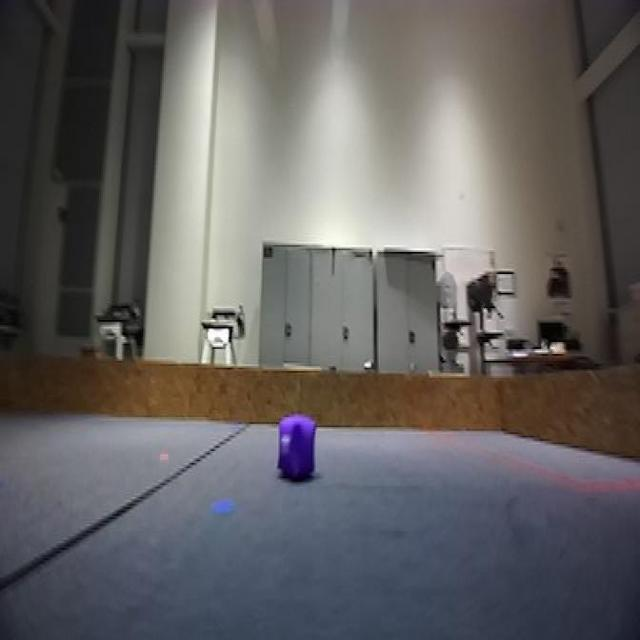frc_cube: (277, 416, 317, 484)
